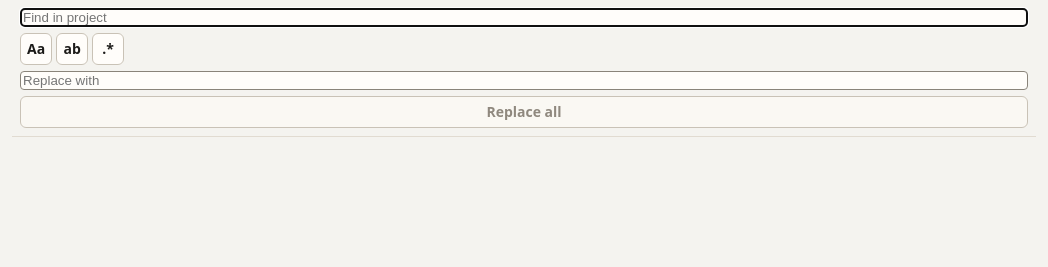
it: ProjectSearch › disables replacing in a read-only window
The image size is (1048, 267).
Type "intro" into the field labelled "Find in project" at (524, 18), box left=20, top=8, right=1028, bottom=27
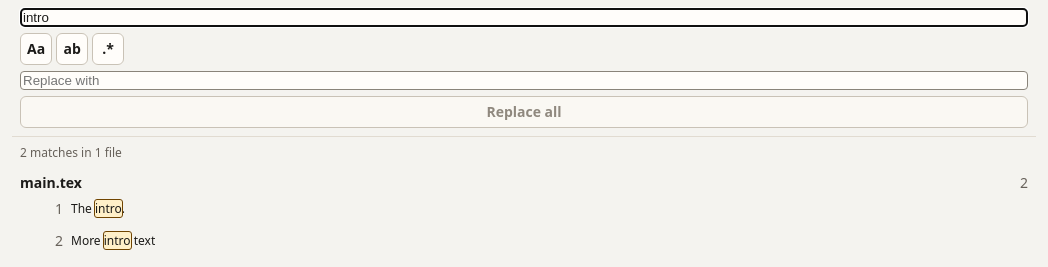
Check: the button "Replace all" is disabled, box left=20, top=96, right=1028, bottom=128
Check: the text "2 matches in 1 file" is shown, box left=20, top=144, right=122, bottom=161
